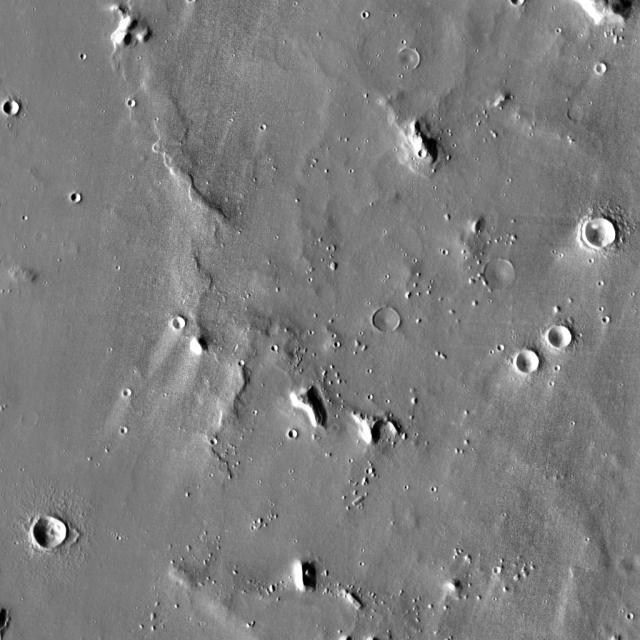crater: (485, 260, 517, 292), (36, 516, 68, 548), (586, 217, 618, 247), (375, 307, 402, 332), (550, 325, 574, 348), (375, 421, 399, 444), (518, 351, 542, 373), (400, 50, 419, 68), (568, 104, 586, 120), (23, 408, 40, 424), (6, 99, 20, 113), (174, 318, 184, 328), (596, 63, 606, 73), (418, 150, 428, 159), (273, 344, 281, 352), (494, 566, 502, 574), (72, 194, 80, 201), (130, 98, 137, 106), (289, 431, 297, 438), (232, 352, 239, 360), (210, 439, 218, 446), (120, 428, 128, 434), (626, 614, 634, 620), (334, 342, 341, 348), (497, 344, 504, 350), (124, 390, 131, 396), (80, 54, 86, 60)
